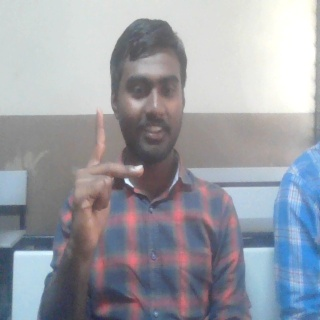Okay: (67, 107, 146, 254)
